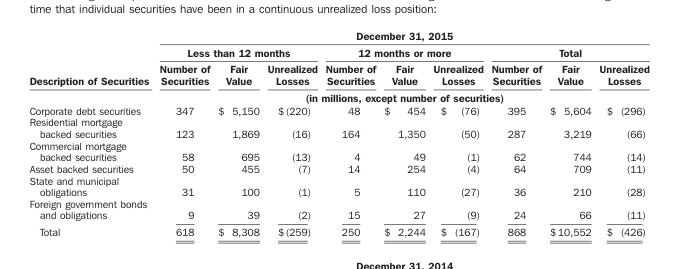table: (28, 28, 648, 237)
table column: (28, 28, 153, 237), (153, 28, 213, 237), (320, 28, 379, 237), (486, 28, 545, 237), (262, 28, 320, 237), (428, 28, 486, 237), (594, 28, 648, 237), (213, 28, 262, 237), (379, 28, 428, 237), (545, 28, 594, 237)
table column header: (28, 28, 648, 103)
table row: (28, 60, 648, 88), (28, 197, 648, 223), (28, 115, 648, 139), (28, 173, 648, 197), (28, 139, 648, 162), (28, 43, 648, 60), (28, 28, 648, 43), (28, 88, 648, 103), (28, 223, 648, 237), (28, 103, 648, 115), (28, 162, 648, 173)
table spanning cell: (28, 28, 153, 103), (153, 28, 648, 43), (153, 88, 648, 103), (153, 43, 320, 60), (320, 43, 486, 60), (486, 43, 648, 60)
